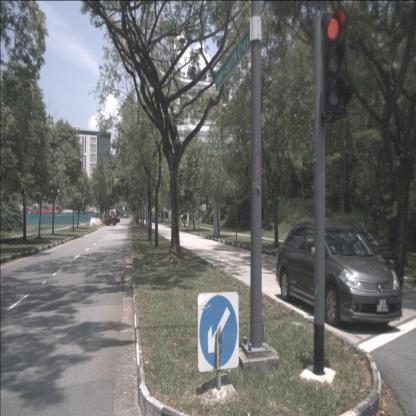human-pedestrian-adult: (189, 214, 192, 226), (193, 214, 196, 226), (192, 215, 194, 225)
vehicle-car: (276, 220, 404, 330), (324, 225, 404, 295)
vehicle-truck: (106, 207, 116, 226), (110, 210, 119, 223), (114, 211, 120, 222)
